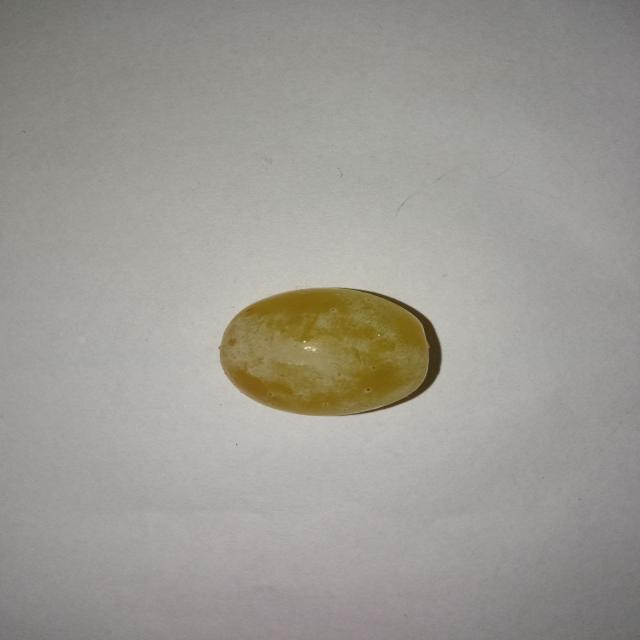fresh_grape: (215, 286, 431, 416)
